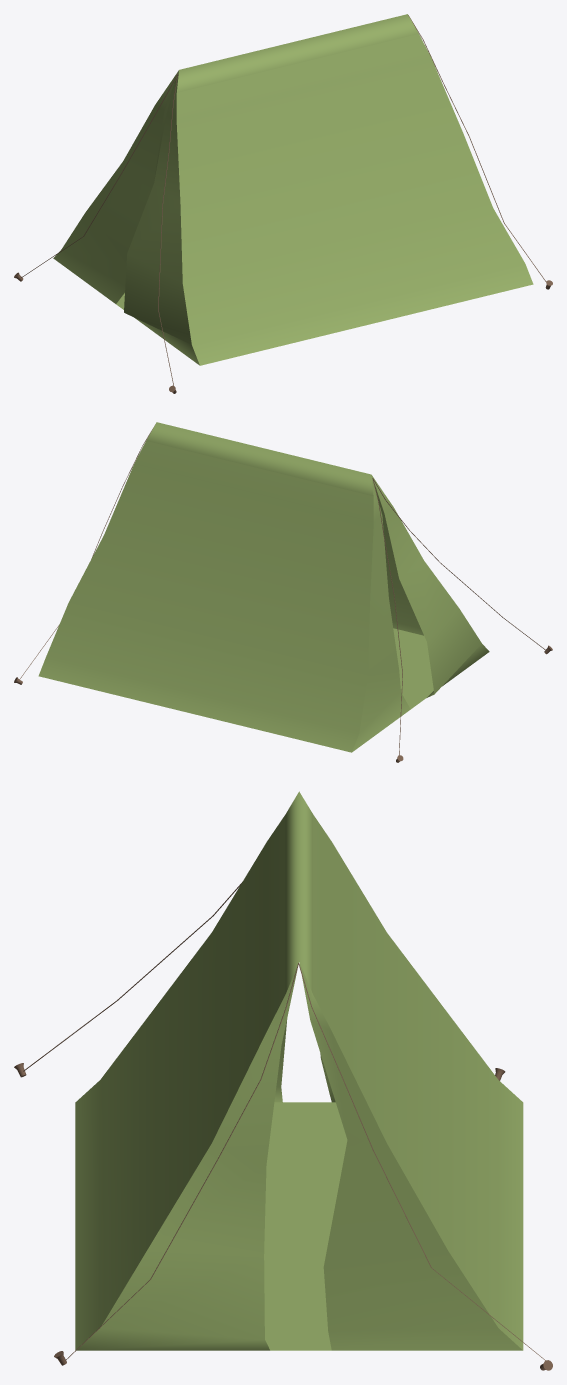
File: tent 1.fbx
The picture shows the model from 3 angles, top to bottom: view 1: azimuth 30°, elevation 25°; view 2: azimuth 150°, elevation 25°; view 3: azimuth 270°, elevation 25°; orthographic projection. The views are drawn at different scales.
Parts seen in each view (by area): view 1: pCube1; view 2: pCube1; view 3: pCube1.
Boxes of the visible parts, box(x1,y1,x2,y2) form: pCube1: box(53, 14, 533, 365); pCube1: box(38, 422, 489, 752); pCube1: box(75, 791, 523, 1350).
Size of the model in its own units: 6.57 by 3.71 by 5.02.
